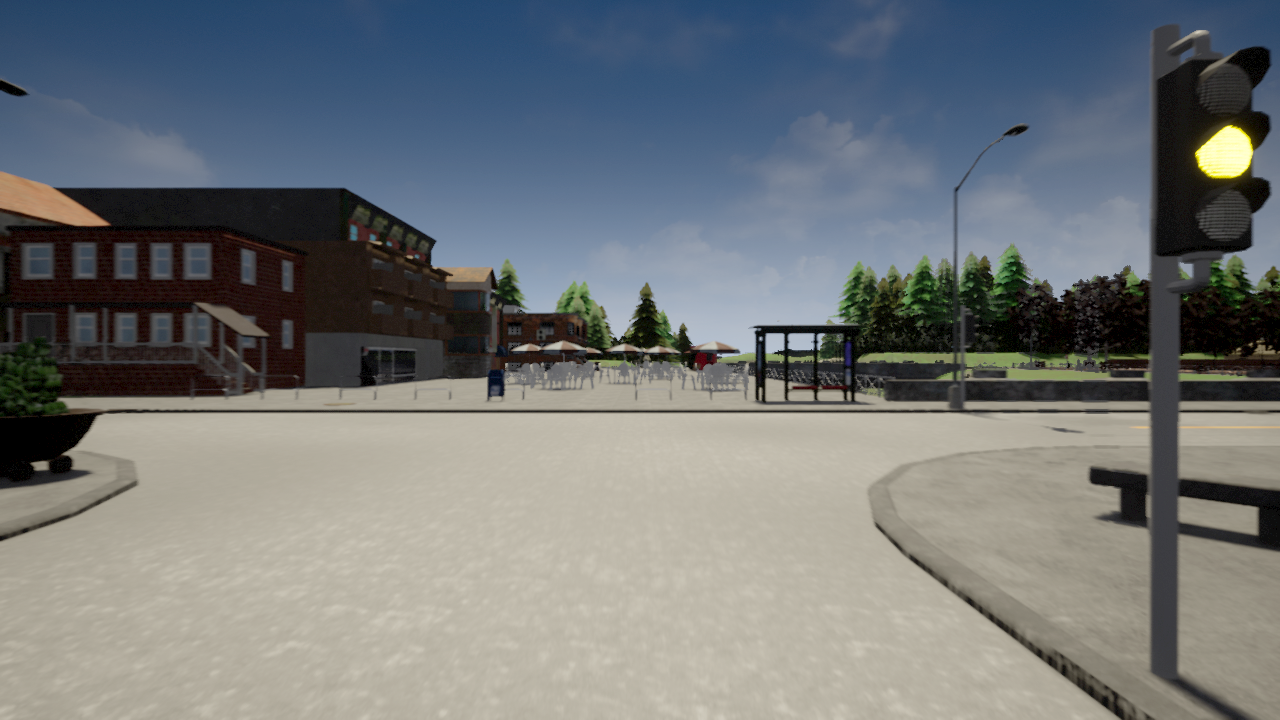yellow: (1159, 41, 1267, 260)
